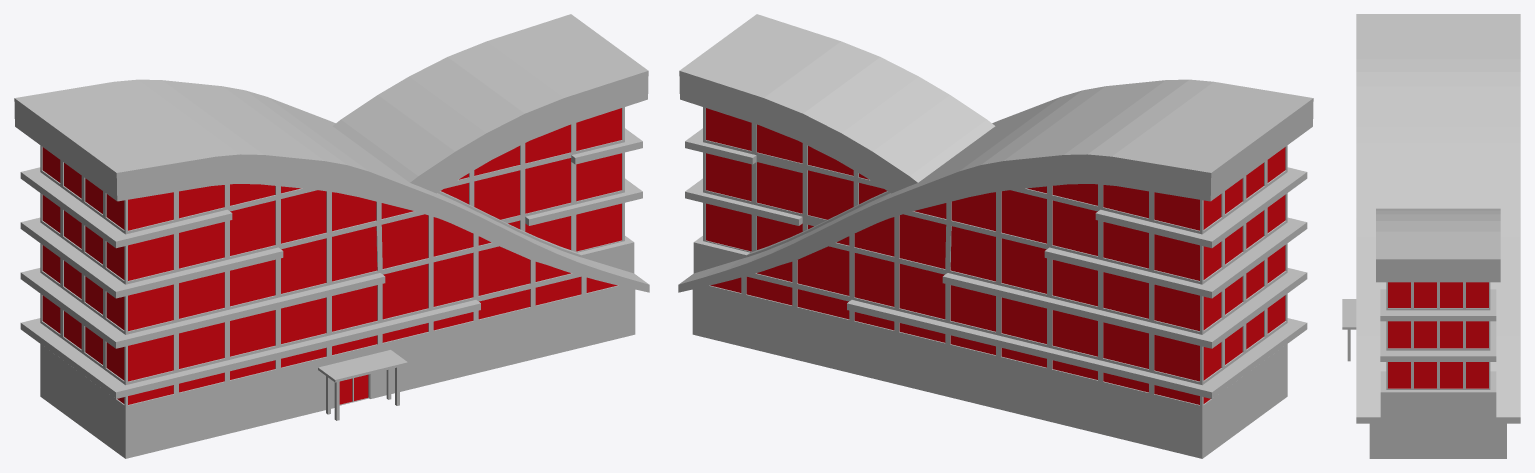
The model's file is SM_infrastructure_buildings_01.gltf.
The picture shows the model from 3 angles, left to right: view 1: azimuth 30°, elevation 25°; view 2: azimuth 150°, elevation 25°; view 3: azimuth 270°, elevation 25°; orthographic projection. The views are drawn at different scales.
Parts seen in each view (by area): view 1: infrastructure_buildings_01; view 2: infrastructure_buildings_01; view 3: infrastructure_buildings_01.
Part boxes in pixels (left/top/right/bottom): infrastructure_buildings_01: left=14, top=14, right=649, bottom=458; infrastructure_buildings_01: left=678, top=14, right=1313, bottom=458; infrastructure_buildings_01: left=1342, top=14, right=1520, bottom=458.
Size of the model in its own units: 34 by 17.69 by 12.
